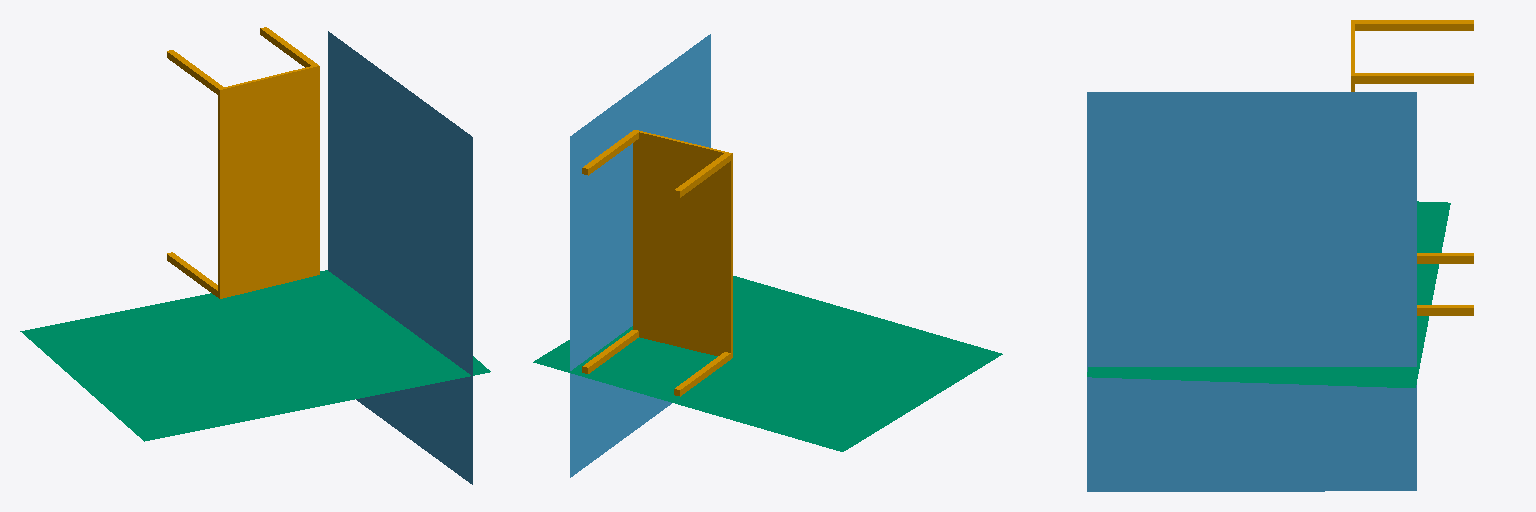
robot.urdf — ur5e_robot:
<?xml version="1.0" ?>
<robot name="ur5e_robot" xmlns:xacro="http://wiki.ros.org/xacro">

  <link name="table">
    <contact>
      <friction_anchor/>
      <lateral_friction value="5"/>
      <spinning_friction value="0.005"/>
      <rolling_friction value="0.005"/>
      <contact_cfm value="5"/>
      <contact_erp value="5"/>
    </contact>
    <visual>
      <geometry>
        <mesh filename="./stl/mesa_lab.dae" scale="0.001 0.001 0.001"/>
      </geometry>
    </visual>
    <collision>
      <geometry>
        <mesh filename="./stl/mesa_lab.dae" scale="0.001 0.001 0.001"/>
      </geometry>
    </collision>
    <inertial>
      <mass value="50"/>
      <inertia ixx="0" ixy="0" ixz="0" iyy="0" iyz="0" izz="0"/>
    </inertial>
  </link>

  <link name="background">
    <visual>
      <geometry>
        <mesh filename="./background.obj" scale="2 2 2"/>
      </geometry>
    </visual>
    <inertial>
        <mass value="0.0" />
        <origin xyz="0.0 0.0 0.0"/>
        <inertia ixx="0.0" ixy="0.0" ixz="0.0" iyy="0.0" iyz="0.0" izz="0.0" />
    </inertial>
  </link>

  <link name="background_2">
    <visual>
      <geometry>
        <mesh filename="./background_2.obj" scale="2 2 2"/>
      </geometry>
    </visual>
    <inertial>
        <mass value="0.0" />
        <origin xyz="0.0 0.0 0.0"/>
        <inertia ixx="0.0" ixy="0.0" ixz="0.0" iyy="0.0" iyz="0.0" izz="0.0" />
    </inertial>
  </link>

  <!-- <link name="aruco">
    <visual>
      <geometry>
        <mesh filename="./untitled.obj" scale="0.1 0.1 0.1"/>
      </geometry>
    </visual>
    <inertial>
        <mass value="0.0" />
        <origin xyz="0.0 0.0 0.0"/>
        <inertia ixx="0.0" ixy="0.0" ixz="0.0" iyy="0.0" iyz="0.0" izz="0.0" />
    </inertial>
  </link>

  <joint name="aruco_table_joint" type="fixed">
    <parent link="table"/>
    <child link="aruco"/>
    <origin rpy="0.0 0.0 -1.57" xyz="0.35 -0.01 0.055"/>
  </joint>  -->

  <joint name="background_table_joint" type="fixed">
    <parent link="table"/>
    <child link="background"/>
    <origin rpy="3.1415 3.1415 0.0" xyz="1.1 -0.6 0.3"/>
  </joint> 

  <joint name="background2_table_joint" type="fixed">
    <parent link="table"/>
    <child link="background_2"/>
    <origin rpy="3.1415 -1.57 -0.08" xyz="0.0 -0.5 -0.2"/>
  </joint> 

</robot>

--- What the picture shows (computed from the rendered views, not written in the file) ---
3 views of the same robot in one strip: view 1: azimuth 30°, elevation 25°; view 2: azimuth 150°, elevation 25°; view 3: azimuth 270°, elevation 25° (orthographic).
Robot: ur5e_robot — 3 links, 2 joints (2 fixed); root link table; default pose: all joints at 0.
Links seen in each view (by area): view 1: background_2, background, table; view 2: background_2, background, table; view 3: background, background_2, table.
Link boxes in pixels (x1,y1,x2,y2): background_2: (20, 270, 490, 441); background: (328, 31, 472, 484); table: (167, 27, 319, 298); background_2: (533, 276, 1002, 451); background: (570, 34, 710, 477); table: (582, 130, 732, 396); background: (1087, 92, 1416, 491); background_2: (1087, 201, 1450, 387); table: (1351, 20, 1473, 315).
Size in the robot's own frame: 2.82 by 2.34 by 2.67 metres.
Meshes: 3 distinct files referenced, 3 mesh visuals loaded (1 Collada DAE, 2 OBJ).